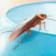cockroach: (7, 13, 48, 42)
